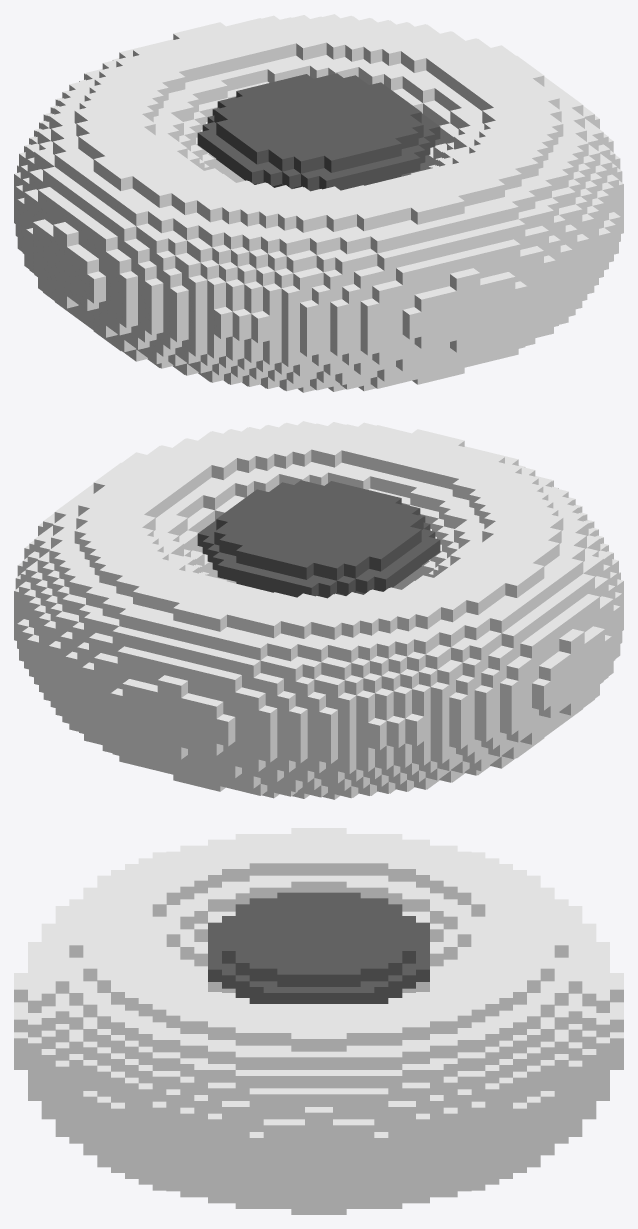
Rendered from Joint.fbx.
3 views of the same model, one above another, from view 1: azimuth 30°, elevation 25°; view 2: azimuth 150°, elevation 25°; view 3: azimuth 270°, elevation 25° (orthographic). The views are drawn at different scales.
Visible parts, largest first — view 1: Torus; view 2: Torus; view 3: Torus.
Part boxes in pixels (left/top/right/bottom): Torus: left=14, top=14, right=623, bottom=392; Torus: left=14, top=421, right=623, bottom=799; Torus: left=14, top=828, right=623, bottom=1214.
Bounding box in the file's own units: 44 × 14 × 44.
1 material, 1 textured.
